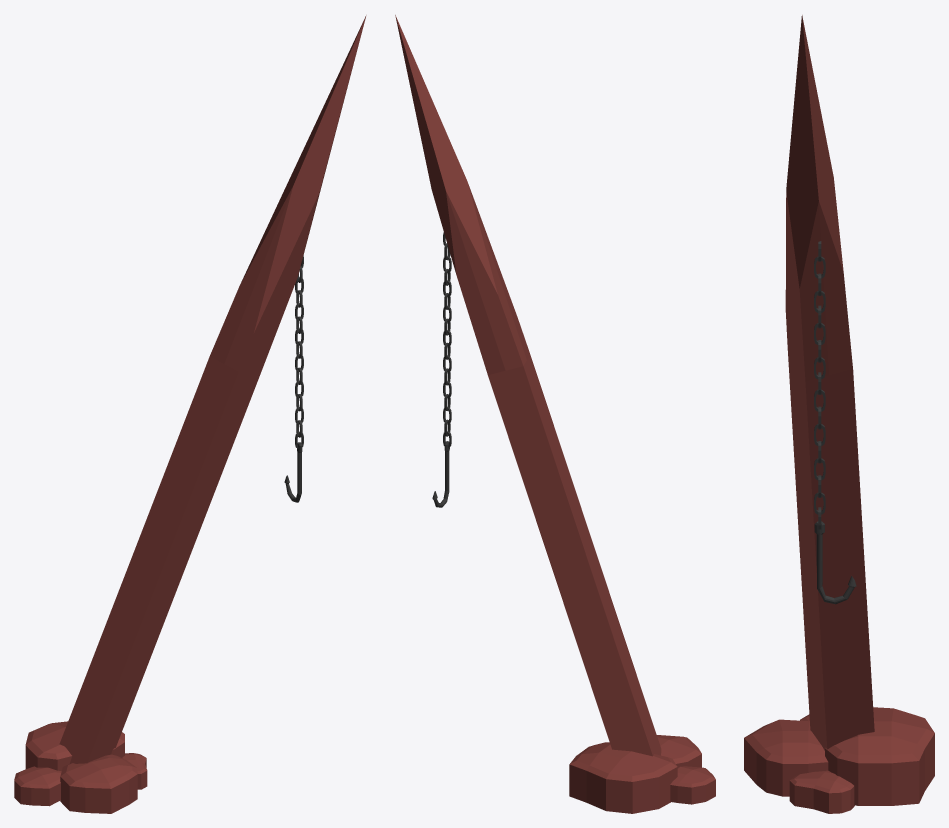
Rendered from RockHook.fbx.
The picture shows the model from 3 angles, left to right: view 1: azimuth 30°, elevation 25°; view 2: azimuth 150°, elevation 25°; view 3: azimuth 270°, elevation 25°; orthographic projection. The views are drawn at different scales.
Parts seen in each view (by area): view 1: Cylinder.017; view 2: Cylinder.017; view 3: Cylinder.017.
Part boxes in pixels (box(x1,y1,x2,y2)): Cylinder.017: box(14, 15, 366, 813); Cylinder.017: box(395, 15, 715, 813); Cylinder.017: box(744, 15, 934, 813).
Bounding box in the file's own units: 965 × 1956 × 363.
